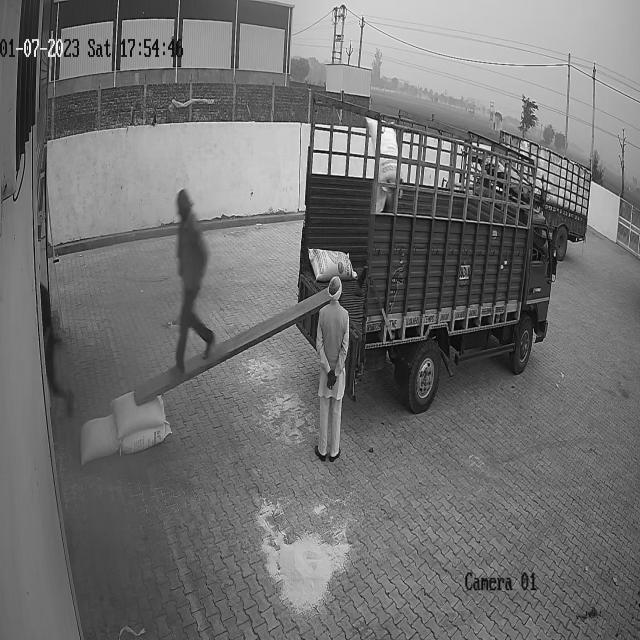sack: (110, 392, 166, 435), (79, 413, 117, 463), (308, 247, 356, 282), (120, 422, 170, 454)
